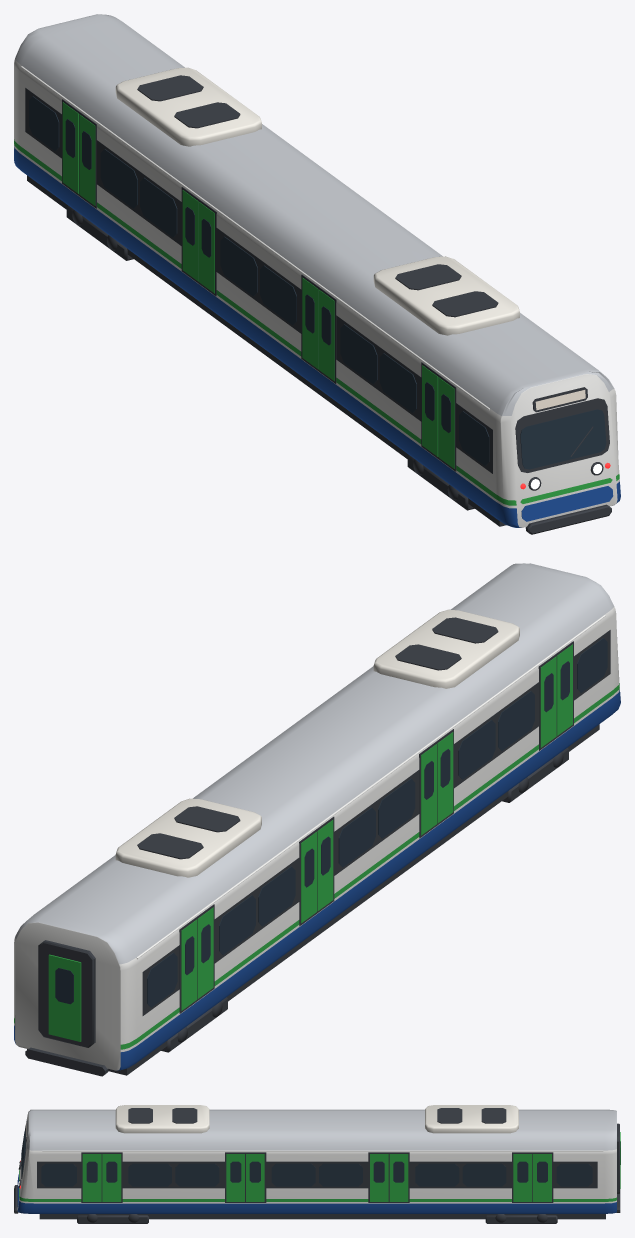
Rendered from bts_train.glb.
The picture shows the model from 3 angles, top to bottom: view 1: azimuth 30°, elevation 25°; view 2: azimuth 150°, elevation 25°; view 3: azimuth 270°, elevation 25°; orthographic projection. The views are drawn at different scales.
Parts seen in each view (by area): view 1: body; view 2: body; view 3: body.
Part boxes in pixels (x1,y1,x2,y2): body: (14,14,620,534); body: (14,563,620,1076); body: (14,1105,620,1223).
Size of the model in its own units: 3 by 3.76 by 21.99.
